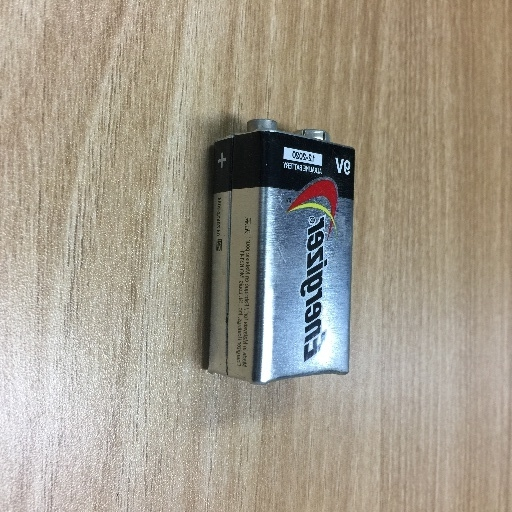Battery_3: (196, 109, 369, 397)
